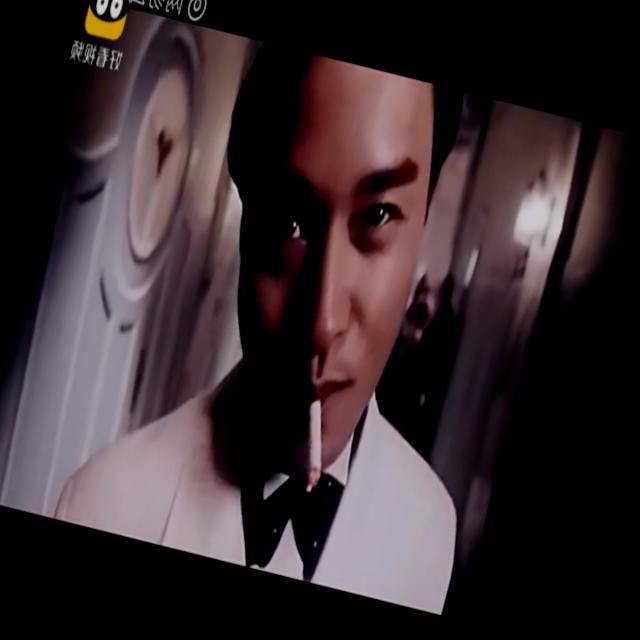cigarette: (283, 402, 344, 501)
